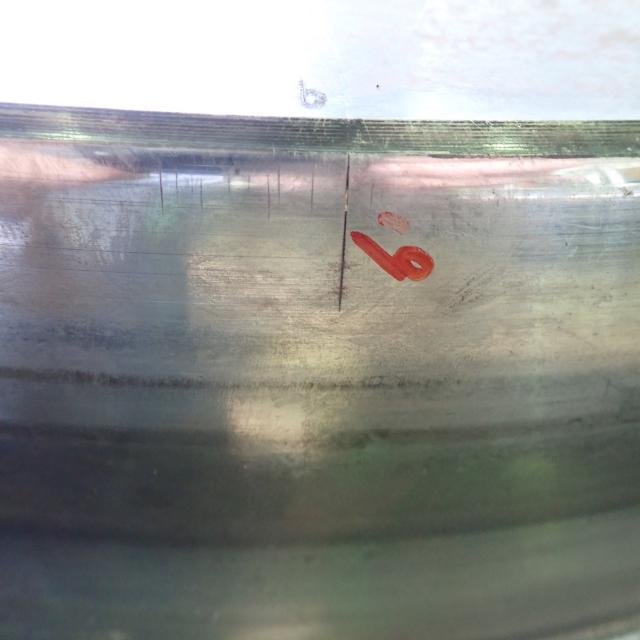Brake_Thermal_Cracks: (330, 155, 364, 325), (266, 151, 286, 225), (307, 154, 321, 226), (196, 168, 212, 222), (222, 160, 238, 213), (156, 164, 171, 220)
